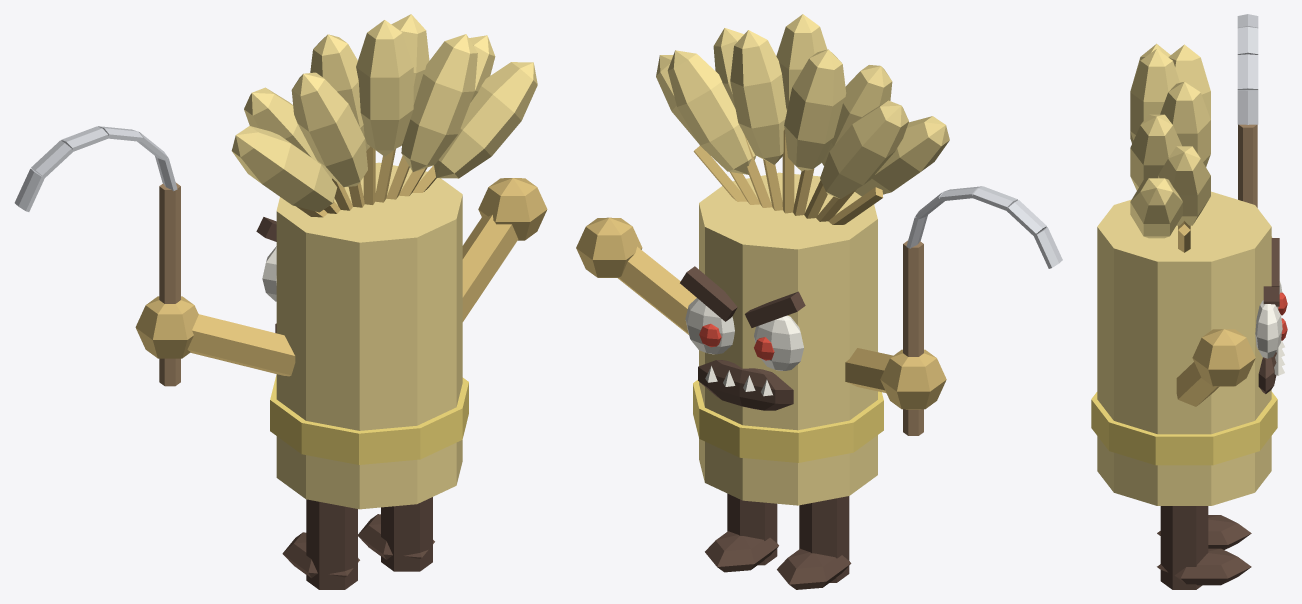
File: WheatBoss.fbx
The picture shows the model from 3 angles, left to right: view 1: azimuth 30°, elevation 25°; view 2: azimuth 150°, elevation 25°; view 3: azimuth 270°, elevation 25°; orthographic projection. The views are drawn at different scales.
Parts seen in each view (by area): view 1: WheatBoss; view 2: WheatBoss; view 3: WheatBoss.
Boxes of the visible parts, x1,y1,x2,y2 form: WheatBoss: [14, 14, 547, 589]; WheatBoss: [576, 14, 1062, 589]; WheatBoss: [1091, 14, 1287, 589].
Bounding box in the file's own units: 3.93 × 4.16 × 1.44.
